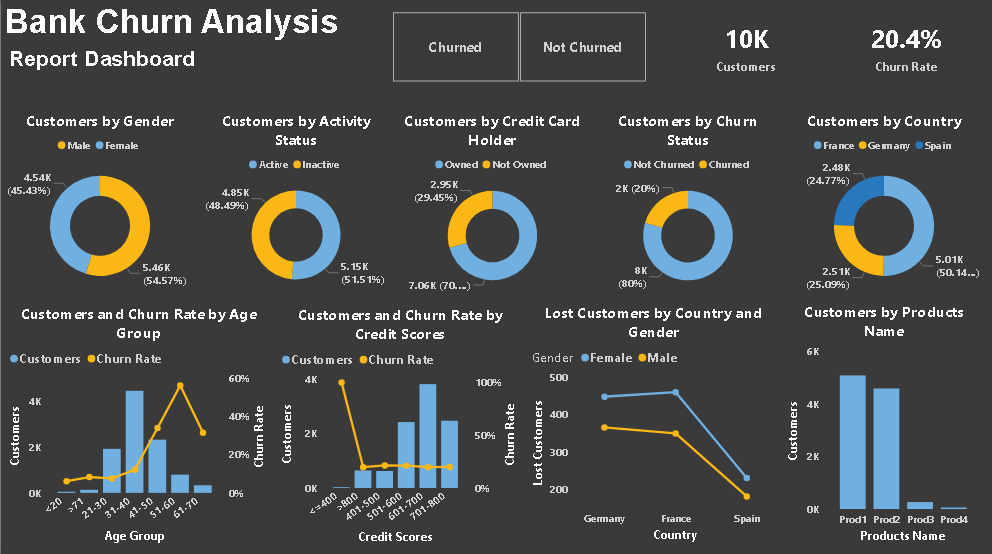

The page's visual inventory and layout, read from the dashboard file:
{"tool":"powerbi","page":{"name":"Page 1","canvas":[1280,720],"ordinal":0},"visuals":[{"type":"card","fields":{"Values":["Calculated Measures.Customers"]},"box":[860.3,7.1,202.7,113.4],"z":0},{"type":"card","fields":{"Values":["Calculated Measures.Churn Rate"]},"box":[1067.2,7.1,202.7,113.4],"z":1000},{"type":"slicer","fields":{"Values":["Customer Data.Churn Status"]},"box":[480.5,11.3,375.6,103.5],"z":2000},{"type":"donutChart","fields":{"Y":["Calculated Measures.Customers"],"Category":["Customer Data.Activity Status"]},"box":[258.7,144.6,245.2,243.8],"z":3000},{"type":"donutChart","fields":{"Y":["Calculated Measures.Customers"],"Category":["Customer Data.Credit Card Holder"]},"box":[511.7,144.6,243.8,245.2],"z":4000},{"type":"donutChart","fields":{"Y":["Calculated Measures.Customers"],"Category":["Customer Data.Churn Status"]},"box":[763.2,144.6,245.2,245.2],"z":5000},{"type":"donutChart","fields":{"Y":["Calculated Measures.Customers"],"Category":["Customer Data.Country"]},"box":[1016.2,144.6,245.2,245.2],"z":6000},{"type":"lineStackedColumnComboChart","fields":{"Y":["Calculated Measures.Customers"],"Category":["Age Group.Age Group"],"Y2":["Calculated Measures.Churn Rate"]},"box":[5.8,393.5,345,315],"z":7000},{"type":"lineStackedColumnComboChart","fields":{"Y":["Calculated Measures.Customers"],"Category":["Customer Data.Credit Scores"],"Y2":["Calculated Measures.Churn Rate"]},"box":[356.1,394.9,318.2,315.4],"z":8000},{"type":"lineChart","fields":{"Y":["Calculated Measures.Lost Customers"],"Category":["Customer Data.Country"],"Series":["Customer Data.Gender"]},"box":[679.8,391.7,324,315.4],"z":9000},{"type":"columnChart","fields":{"Y":["Calculated Measures.Customers"],"Category":["Customer Data.Products Name"]},"box":[1009.1,391.2,260.8,317.5],"z":10000},{"type":"textbox","box":[0,0,462.2,76.3],"z":11000},{"type":"textbox","box":[5.8,57.6,306.7,56.2],"z":12000},{"type":"donutChart","fields":{"Y":["Calculated Measures.Customers"],"Category":["Customer Data.Gender"]},"box":[5.7,144.6,245.2,245.2],"z":13000}]}

Visuals, with their boxes in screenshot pixels (x1, y1, x2, y2), scaled from the page's 1280x720 canvas onto the 992x554 screenshot:
card - Calculated Measures.Customers: 667, 5, 824, 93
card - Calculated Measures.Churn Rate: 827, 5, 984, 93
slicer - Customer Data.Churn Status: 372, 9, 663, 88
donutChart - Calculated Measures.Customers x Customer Data.Activity Status: 200, 111, 391, 299
donutChart - Calculated Measures.Customers x Customer Data.Credit Card Holder: 397, 111, 586, 300
donutChart - Calculated Measures.Customers x Customer Data.Churn Status: 591, 111, 782, 300
donutChart - Calculated Measures.Customers x Customer Data.Country: 788, 111, 978, 300
lineStackedColumnComboChart - Calculated Measures.Customers x Age Group.Age Group: 4, 303, 272, 545
lineStackedColumnComboChart - Calculated Measures.Customers x Customer Data.Credit Scores: 276, 304, 523, 547
lineChart - Calculated Measures.Lost Customers x Customer Data.Country: 527, 301, 778, 544
columnChart - Calculated Measures.Customers x Customer Data.Products Name: 782, 301, 984, 545
textbox: 0, 0, 358, 59
textbox: 4, 44, 242, 88
donutChart - Calculated Measures.Customers x Customer Data.Gender: 4, 111, 194, 300
